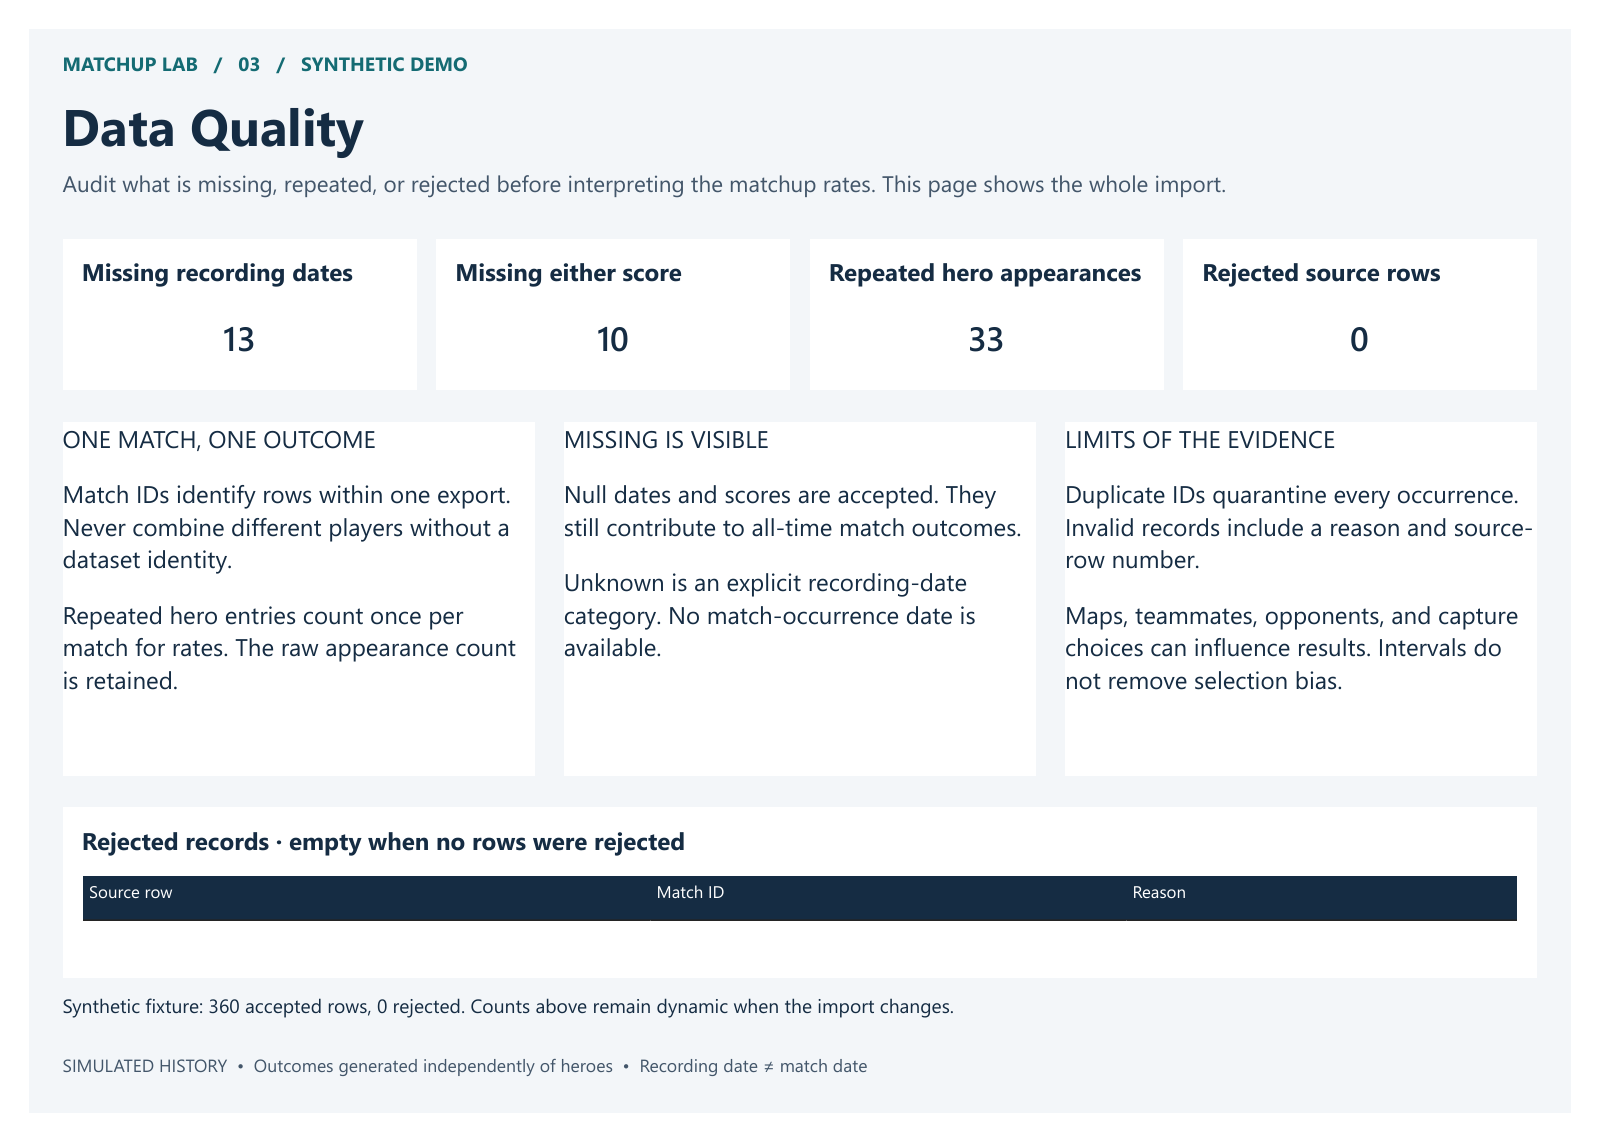

Layout of this report page (visuals, bound fields, positions):
{"tool":"powerbi","page":{"name":"Data Quality","canvas":[1280,900],"ordinal":2},"visuals":[{"type":"textbox","box":[28,18,1224,30],"z":0},{"type":"textbox","box":[28,52,1224,60],"z":1},{"type":"textbox","box":[28,116,1224,50],"z":2},{"type":"textbox","box":[28,850,1224,40],"z":3},{"type":"card","title":"Missing recording dates","fields":{"Values":["Matches.Missing Recording Dates"]},"box":[28,174,294,126],"z":4},{"type":"card","title":"Missing either score","fields":{"Values":["Matches.Missing Scores"]},"box":[338,174,294,126],"z":5},{"type":"card","title":"Repeated hero appearances","fields":{"Values":["Matches.Repeated Appearances"]},"box":[648,174,294,126],"z":6},{"type":"card","title":"Rejected source rows","fields":{"Values":["Matches.Rejected Rows"]},"box":[958,174,294,126],"z":7},{"type":"textbox","box":[28,326,392,294],"z":8},{"type":"textbox","box":[444,326,392,294],"z":9},{"type":"textbox","box":[860,326,392,294],"z":10},{"type":"tableEx","title":"Rejected records · empty when no rows were rejected","fields":{"Values":["Rejections.SourceRow","Rejections.MatchId","Rejections.Reason"]},"box":[28,646,1224,142],"z":11},{"type":"textbox","box":[28,800,1224,42],"z":12}]}

Visuals, with their boxes in screenshot pixels (x1, y1, x2, y2), scaled from the page's 1280x900 canvas onto the 1600x1143 screenshot:
textbox: box(35, 23, 1565, 61)
textbox: box(35, 66, 1565, 142)
textbox: box(35, 147, 1565, 211)
textbox: box(35, 1080, 1565, 1130)
"Missing recording dates" card: box(35, 221, 402, 381)
"Missing either score" card: box(422, 221, 790, 381)
"Repeated hero appearances" card: box(810, 221, 1178, 381)
"Rejected source rows" card: box(1198, 221, 1565, 381)
textbox: box(35, 414, 525, 787)
textbox: box(555, 414, 1045, 787)
textbox: box(1075, 414, 1565, 787)
"Rejected records · empty when no rows were rejected" tableEx: box(35, 820, 1565, 1001)
textbox: box(35, 1016, 1565, 1069)
